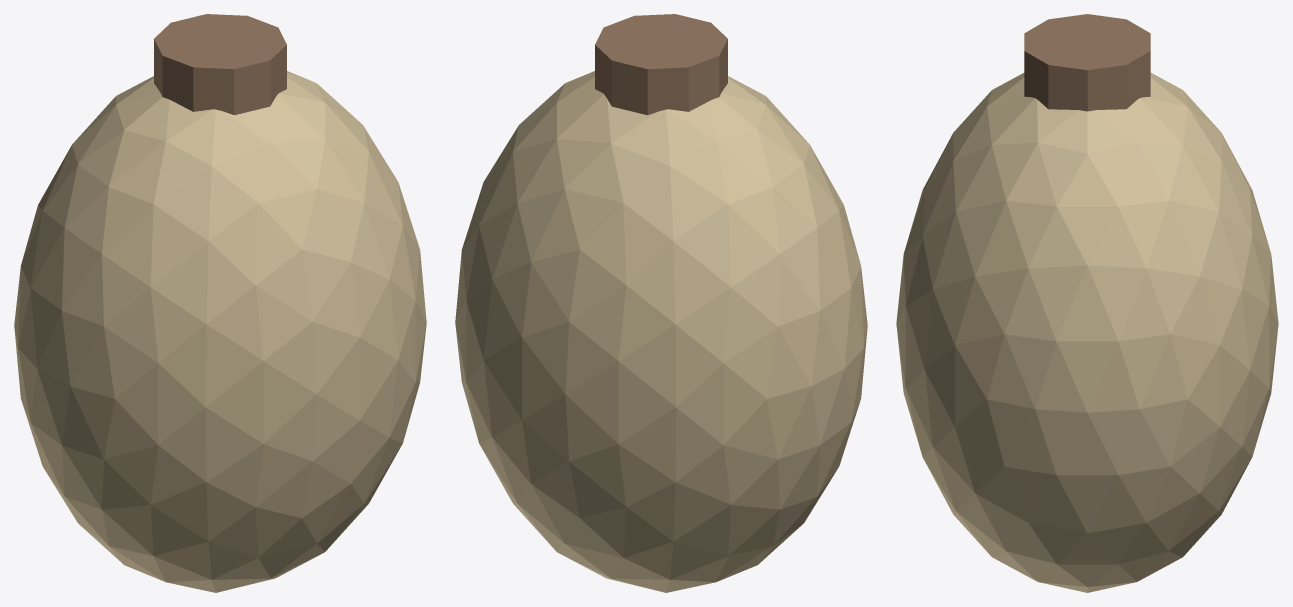
File: grain_sack.glb
The picture shows the model from 3 angles, left to right: view 1: azimuth 30°, elevation 25°; view 2: azimuth 150°, elevation 25°; view 3: azimuth 270°, elevation 25°; orthographic projection.
Visible parts, largest first — view 1: grain_sack_0, grain_sack_1; view 2: grain_sack_0, grain_sack_1; view 3: grain_sack_0, grain_sack_1.
Part boxes in pixels (box(x1,y1,x2,y2)): grain_sack_0: box(14, 71, 426, 592); grain_sack_1: box(154, 14, 286, 115); grain_sack_0: box(455, 71, 867, 592); grain_sack_1: box(595, 14, 727, 115); grain_sack_0: box(896, 73, 1278, 592); grain_sack_1: box(1024, 14, 1150, 111).
Size of the model in its own units: 0.57 by 0.8 by 0.5168.
